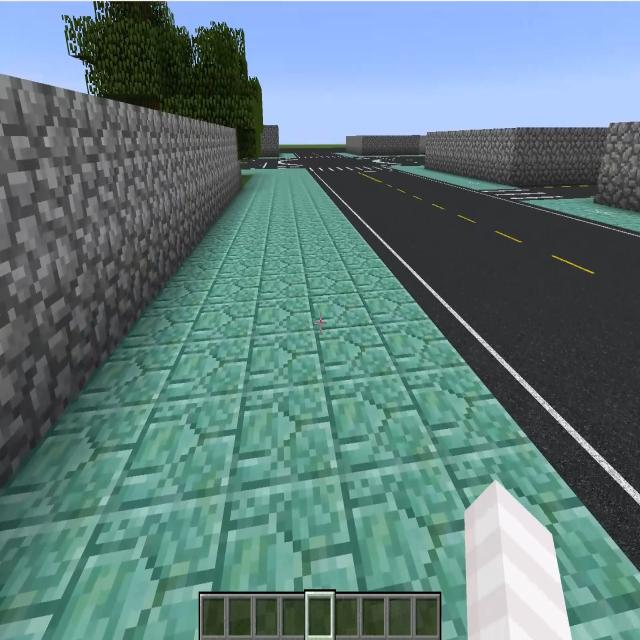crosswalk: (489, 191, 559, 201), (311, 167, 397, 173), (355, 158, 401, 165), (279, 160, 306, 167), (299, 155, 326, 158), (326, 156, 343, 157)
road: (316, 172, 640, 561), (524, 185, 597, 198), (300, 158, 379, 165), (280, 148, 346, 155), (242, 160, 277, 169), (372, 158, 424, 164)
sidewalk: (0, 169, 639, 639), (526, 200, 640, 233), (394, 165, 516, 192), (243, 171, 260, 189), (336, 152, 358, 156), (279, 153, 296, 158), (358, 155, 424, 156)
